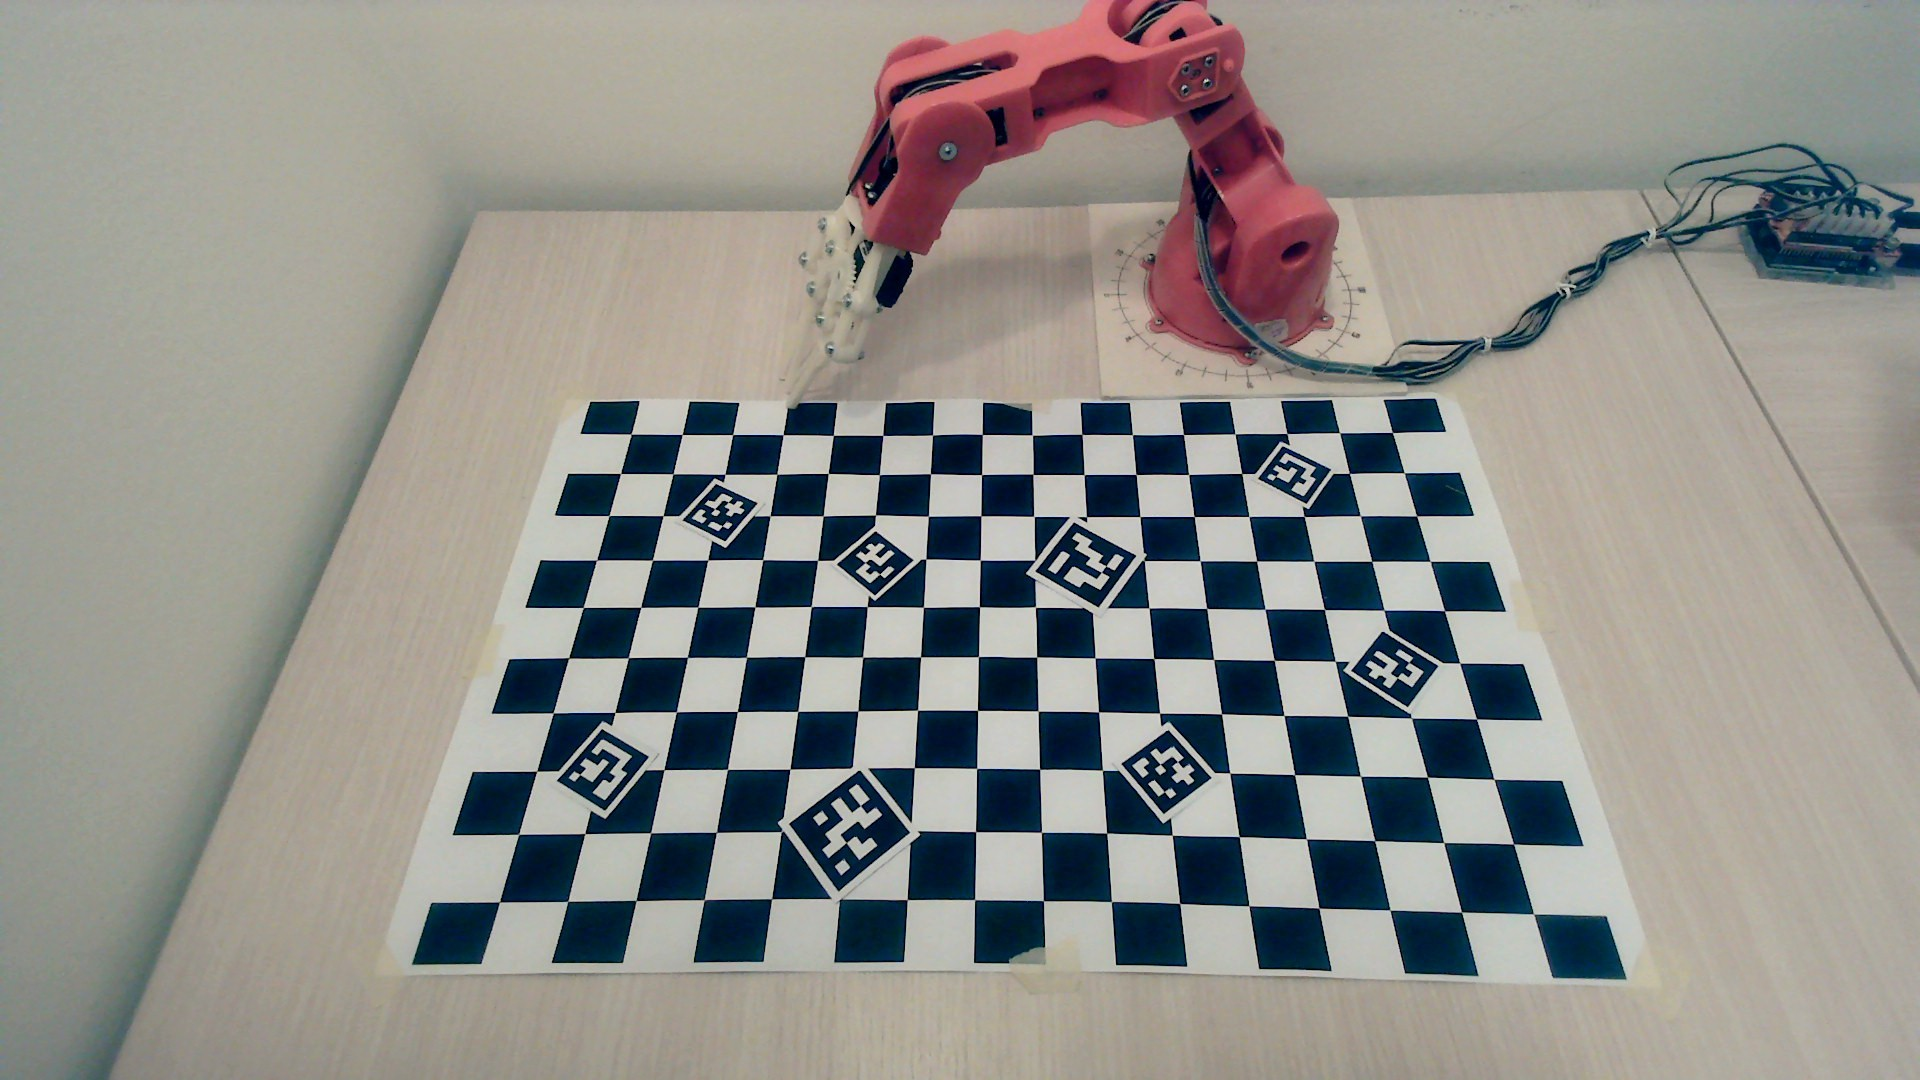marker: (787, 770, 913, 895), (1036, 524, 1138, 611), (556, 727, 651, 818), (1124, 731, 1211, 822), (1352, 630, 1439, 707), (836, 531, 913, 601), (679, 483, 760, 549), (1257, 442, 1336, 506)
